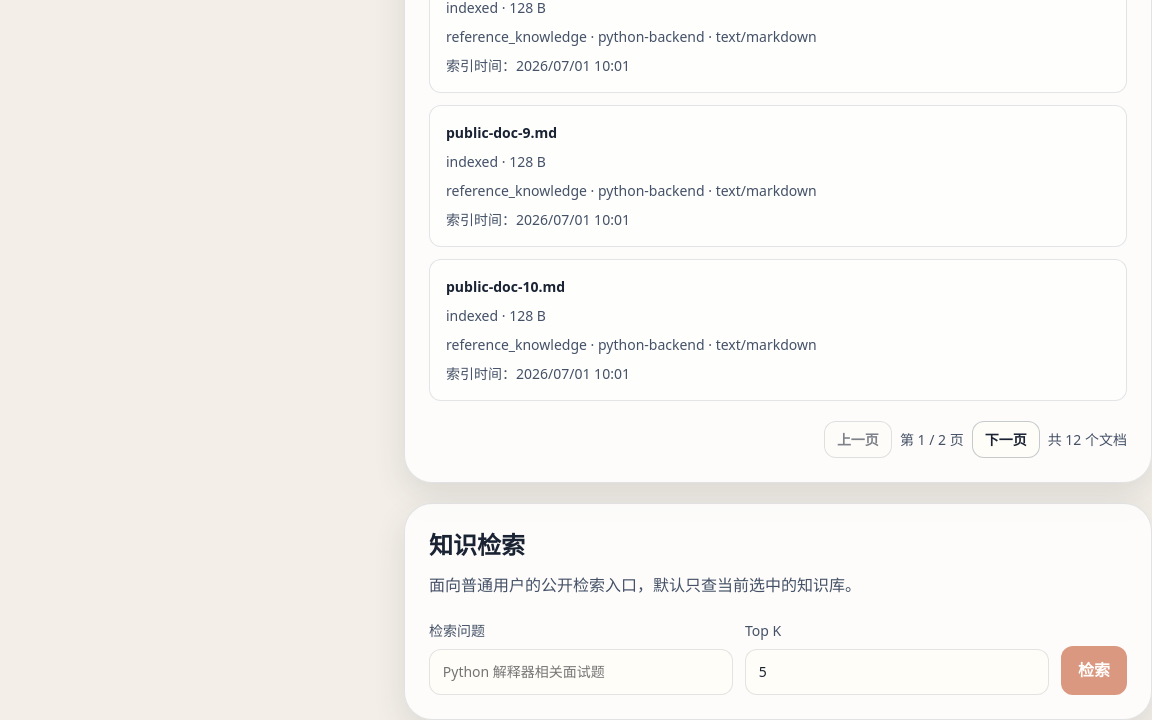
Test: KnowledgeWorkspace › public document list paginates long document sets
This screenshot has width=1152, height=720.
(page scrolled)
Expected: the text "public-doc-10.md" is shown, [446,277,565,296]
Expected: the text "public-doc-11.md" is not shown
Click the button "下一页" at (1006, 440), box [972,421,1040,458]
(page scrolled)
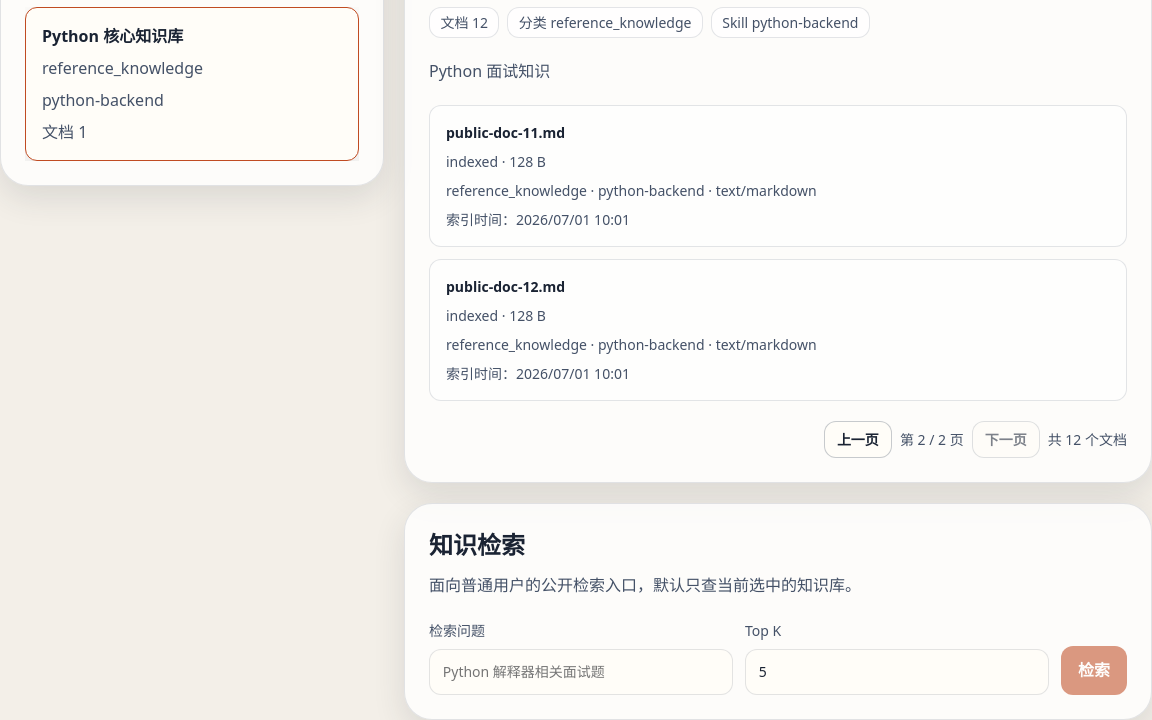
Now the text "public-doc-11.md" is shown, box [446,123,565,142]
Click the button "上一页" at (858, 440), box [824,421,892,458]
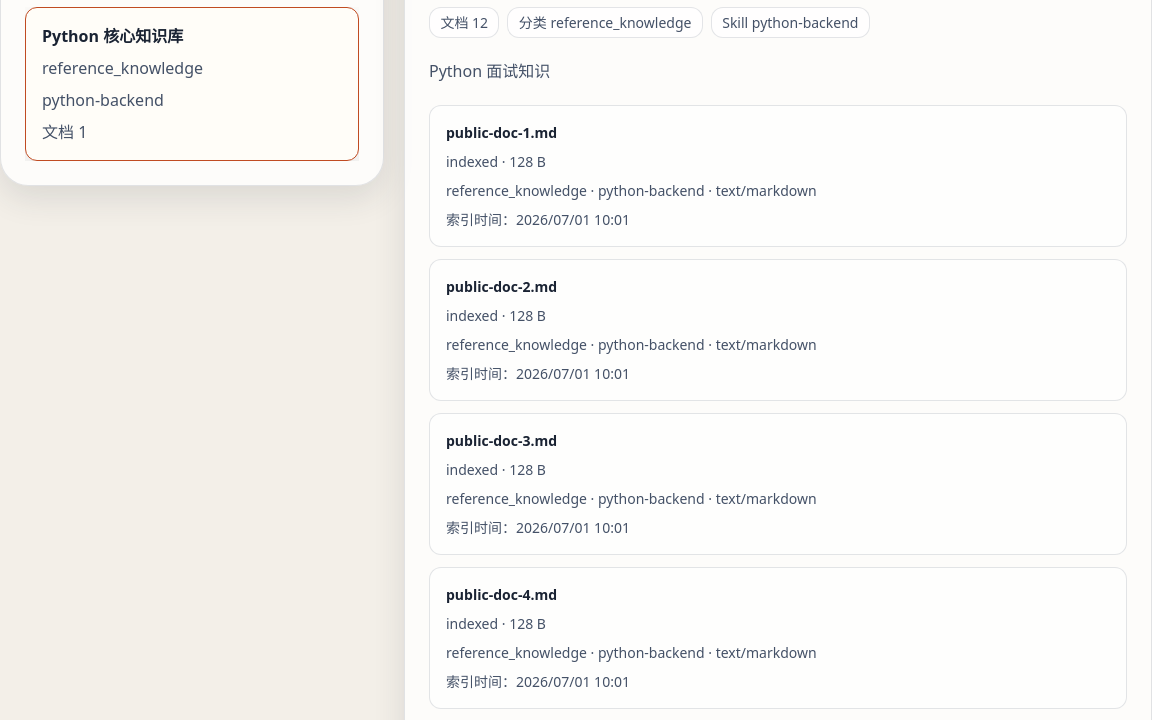
Now the text "public-doc-1.md" is shown, box [446,123,557,142]
